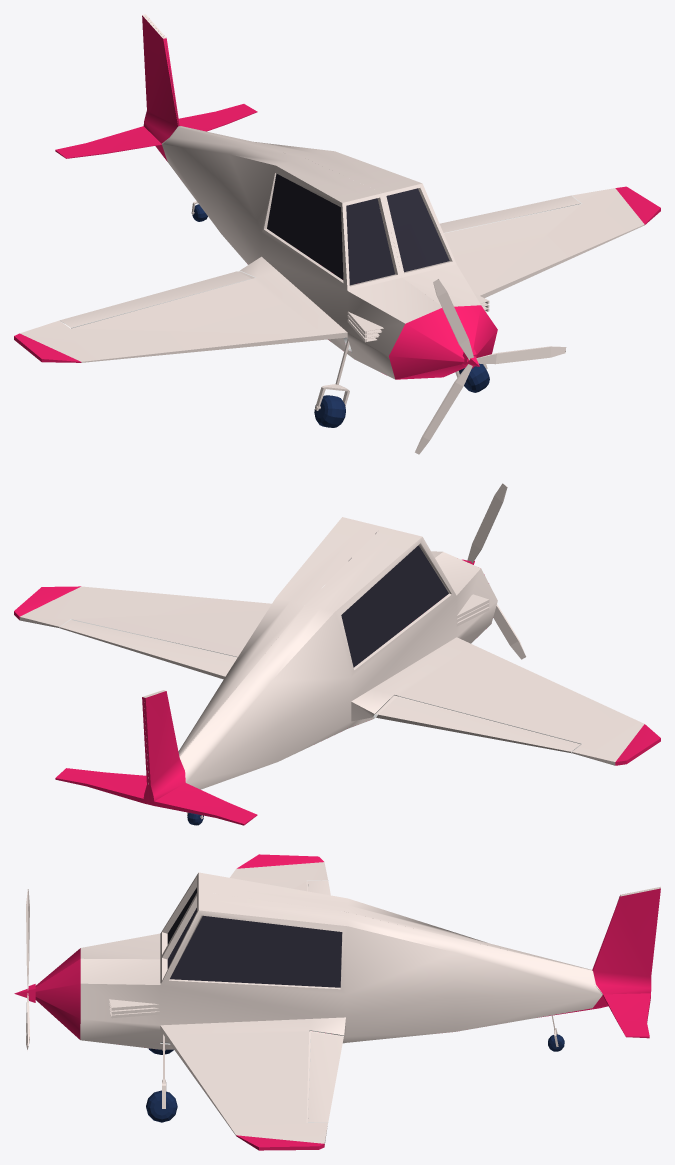
Rendered from cartoon_plane2DRACO.glb.
The picture shows the model from 3 angles, top to bottom: view 1: azimuth 30°, elevation 25°; view 2: azimuth 150°, elevation 25°; view 3: azimuth 270°, elevation 25°; orthographic projection. The views are drawn at different scales.
Visible parts, largest first — view 1: Cylinder_1_Body_0, Wheel_Gum_0, Cube_1_3_Glass_0, Propeller_1; view 2: Cylinder_1_Body_0, Wheel_Gum_0, Cube_1_3_Glass_0, Propeller_1; view 3: Cylinder_1_Body_0, Wheel_Gum_0, Cube_1_3_Glass_0, Propeller_1.
Part boxes in pixels (bbox=[...]): Cylinder_1_Body_0: bbox=[20, 14, 644, 410]; Wheel_Gum_0: bbox=[14, 15, 660, 427]; Cube_1_3_Glass_0: bbox=[267, 173, 449, 285]; Propeller_1: bbox=[415, 279, 566, 454]; Cylinder_1_Body_0: bbox=[19, 517, 644, 819]; Wheel_Gum_0: bbox=[14, 574, 660, 825]; Cube_1_3_Glass_0: bbox=[341, 532, 448, 667]; Propeller_1: bbox=[462, 483, 526, 659]; Cylinder_1_Body_0: bbox=[80, 862, 660, 1144]; Wheel_Gum_0: bbox=[35, 854, 660, 1150]; Cube_1_3_Glass_0: bbox=[167, 887, 342, 987]; Propeller_1: bbox=[14, 889, 35, 1050].
Bounding box in the file's own units: 2.09 × 0.6676 × 1.96.
3 materials, 3 textured.
